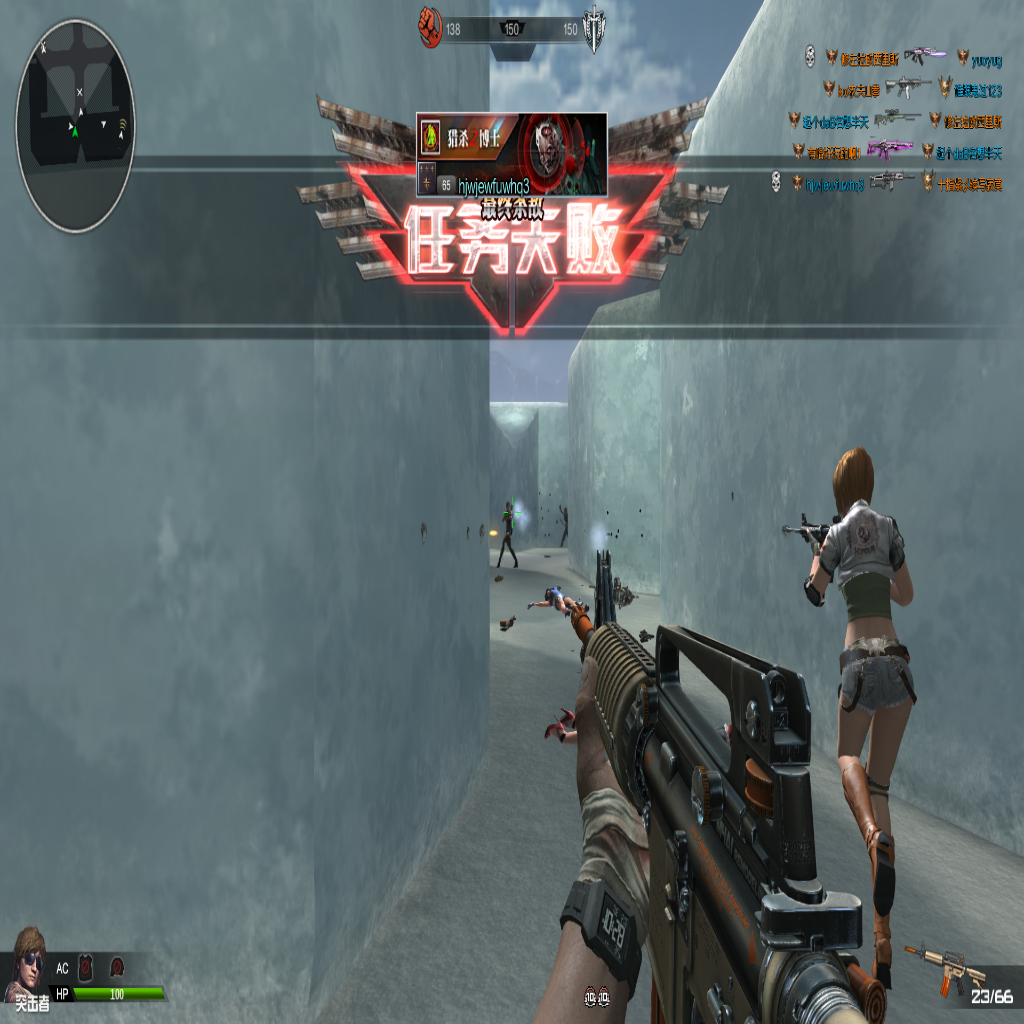ct: (498, 494, 518, 569)
